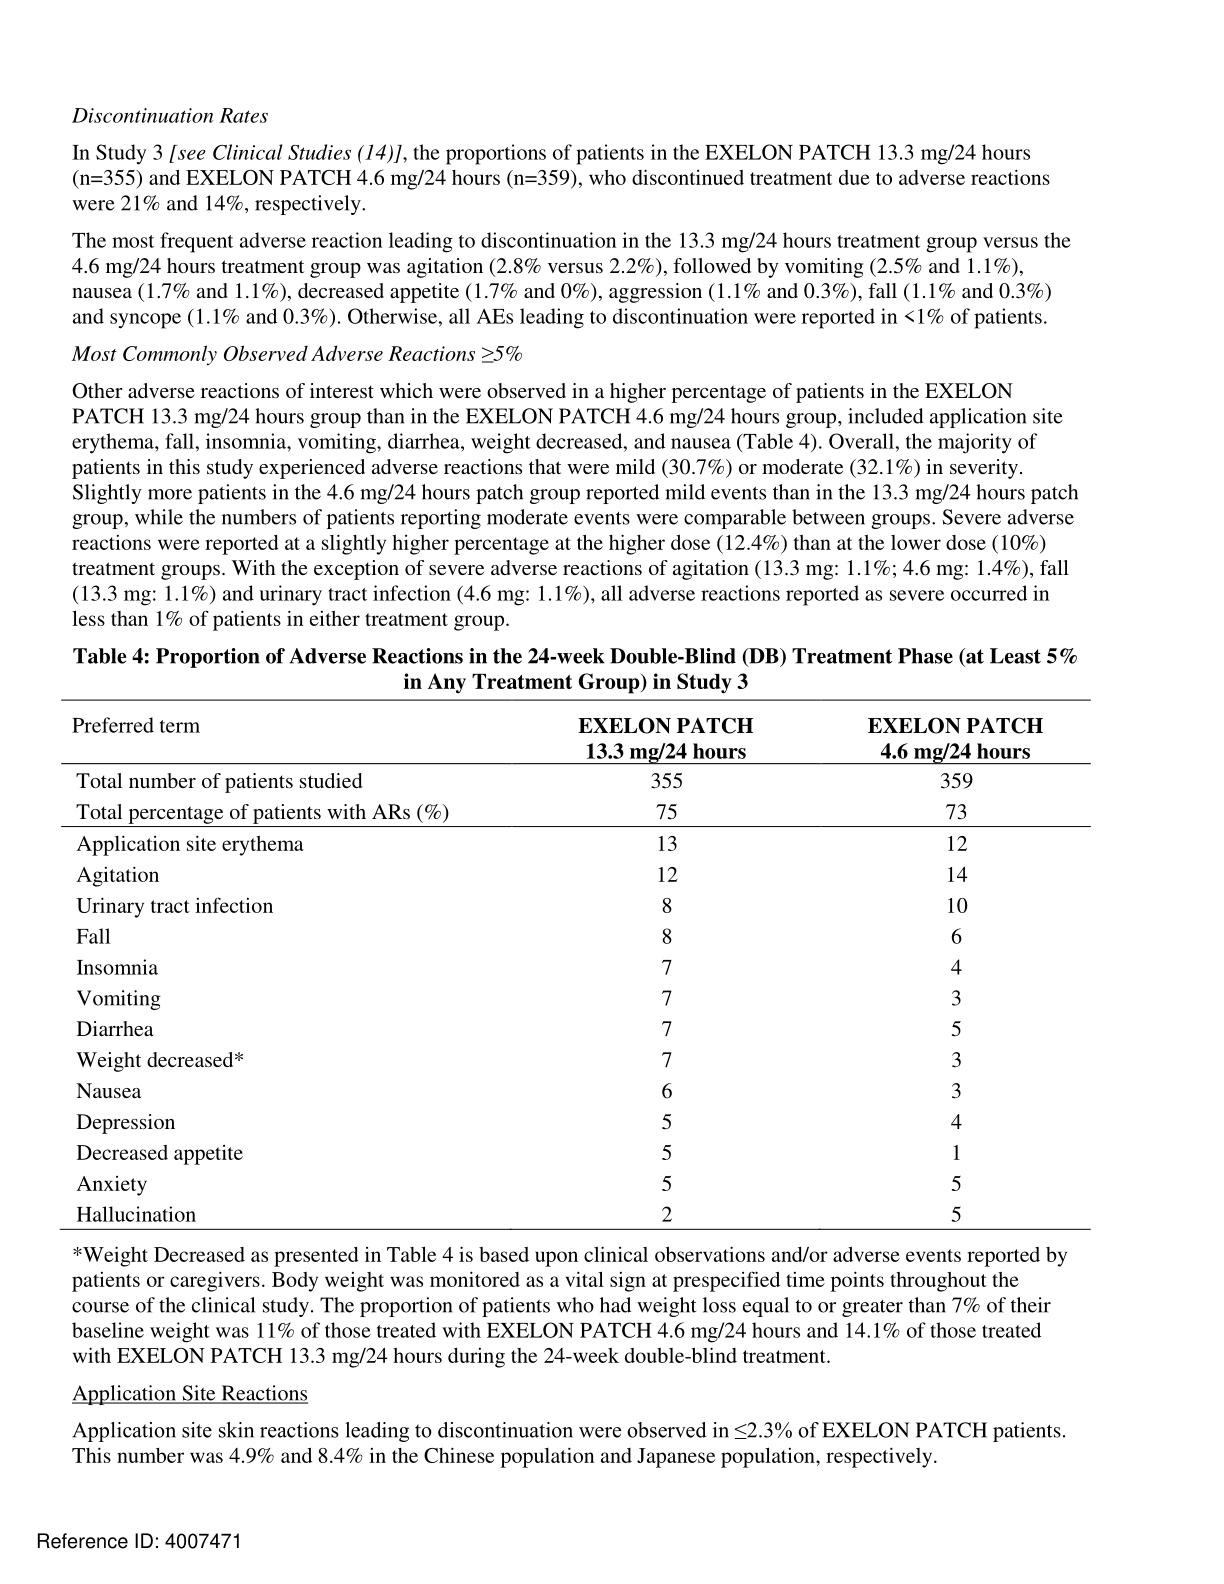partial_lined: (60, 698, 1092, 1232)
